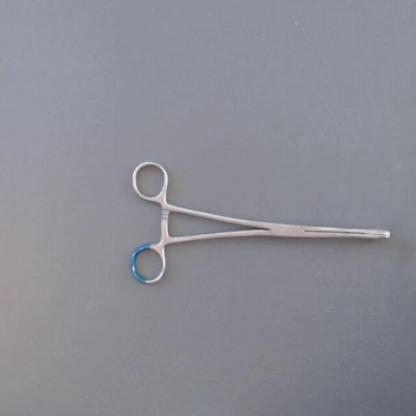Sponge Forceps: (123, 151, 396, 287)
